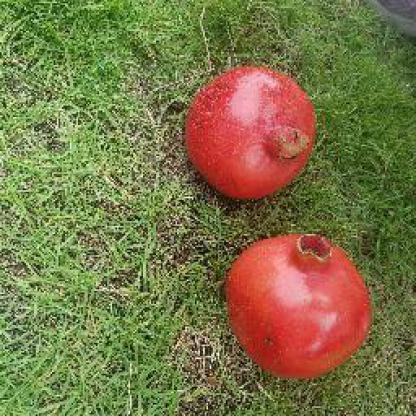pomegranate: (229, 234, 372, 379), (188, 68, 317, 200)
